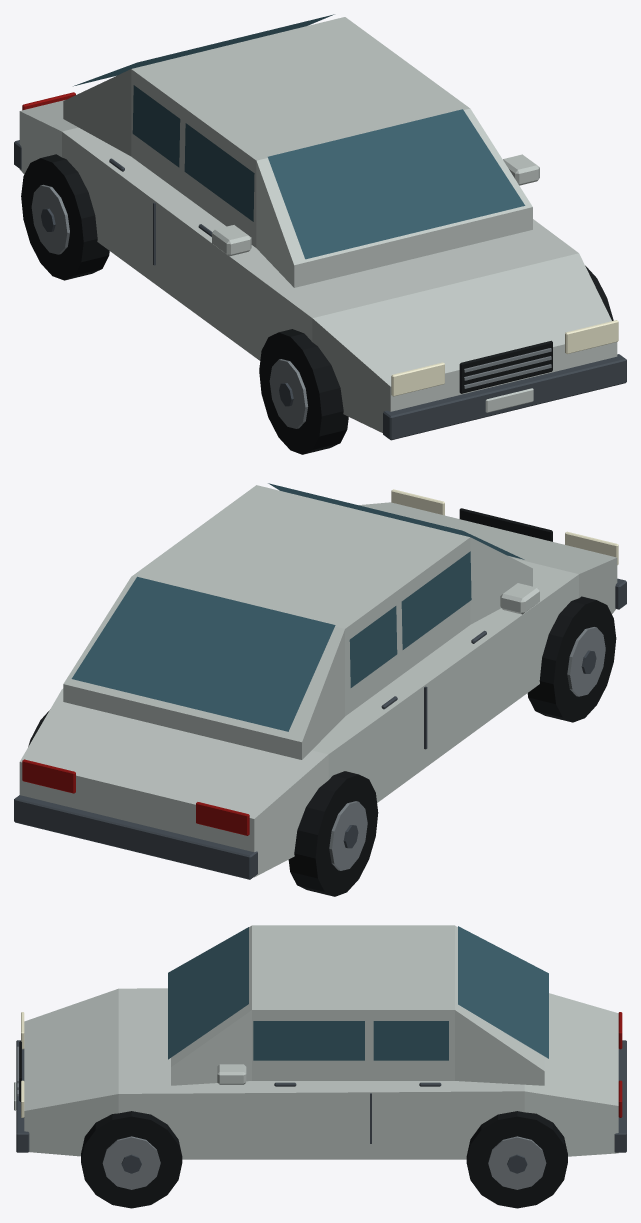
The model's file is SedanWhite.fbx.
The picture shows the model from 3 angles, top to bottom: view 1: azimuth 30°, elevation 25°; view 2: azimuth 150°, elevation 25°; view 3: azimuth 270°, elevation 25°; orthographic projection. The views are drawn at different scales.
Parts seen in each view (by area): view 1: SedanWhite; view 2: SedanWhite; view 3: SedanWhite.
Boxes of the visible parts, box(x1,y1,x2,y2) form: SedanWhite: box(14, 14, 626, 454); SedanWhite: box(14, 483, 626, 896); SedanWhite: box(14, 925, 626, 1208).
Size of the model in its own units: 202 by 141 by 423.
1 material, 1 textured.
